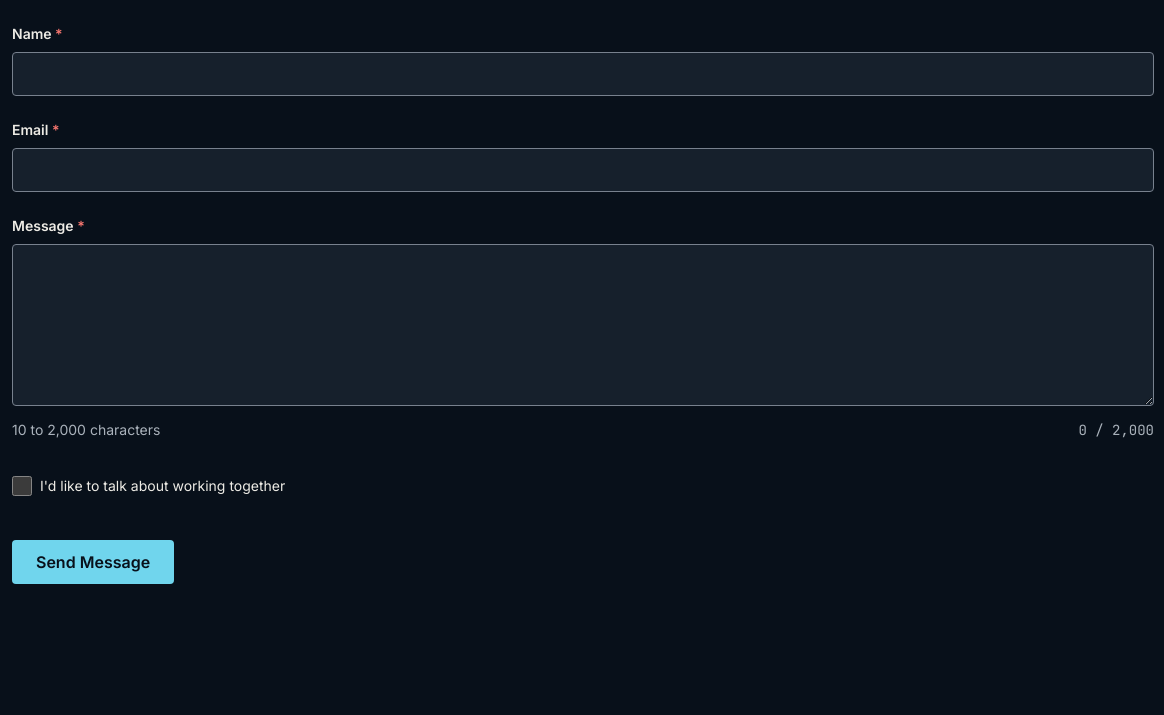
Test: SummitRegister › shows error message on submission failure and keeps every field
Type "John Doe" into the field labelled "Name *".
click(583, 74); type("John Doe")  # box [12,52,1154,96]
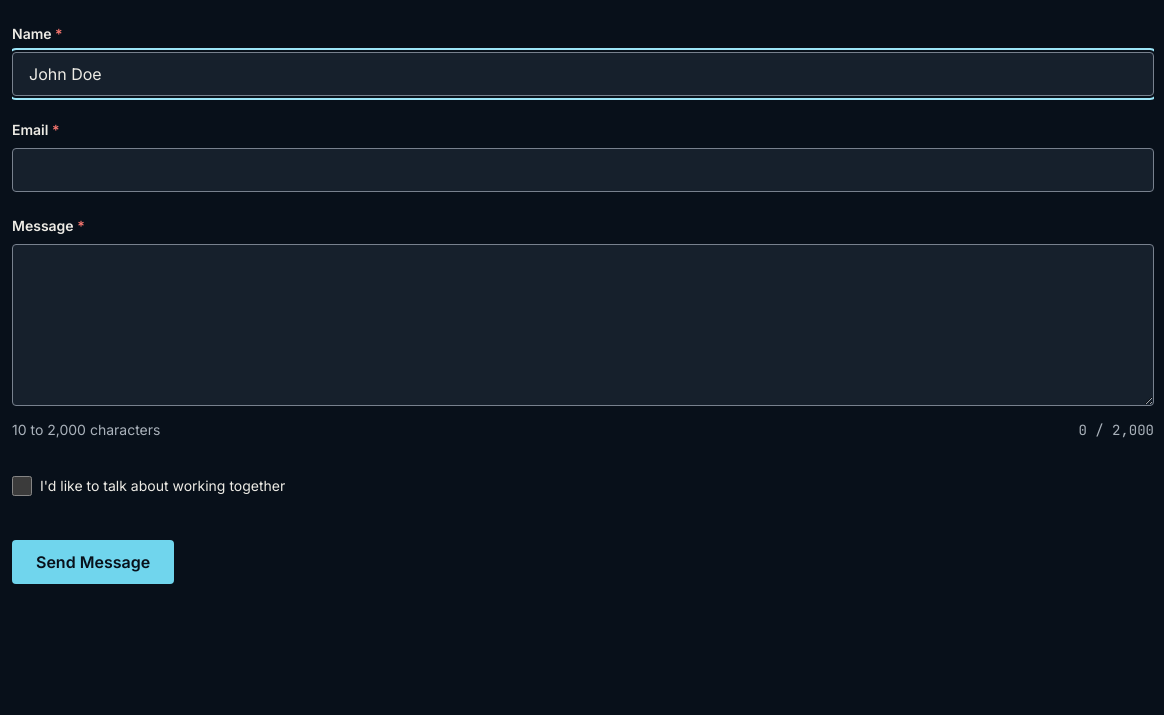
Type "john@example.com" into the field labelled "Email *".
click(583, 170); type("john@example.com")  # box [12,148,1154,192]
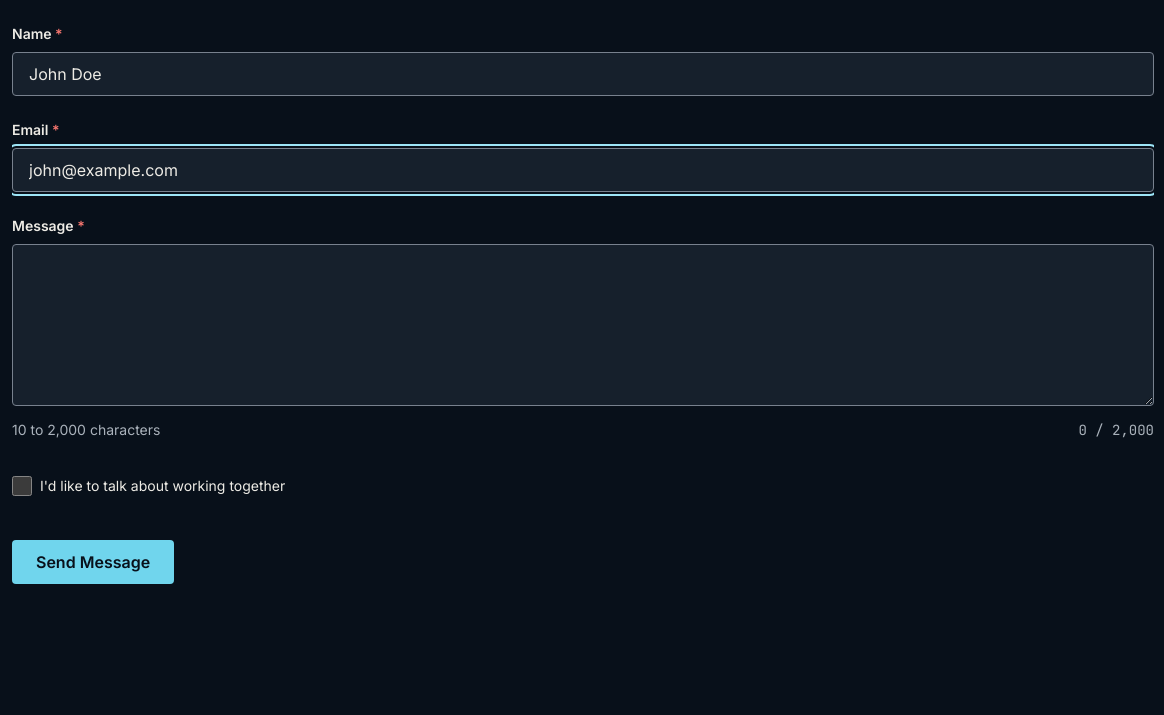
Type "This is a test message that is long enough." into the text box labelled "Message *".
click(583, 325); type("This is a test message that is long enough.")  # box [12,244,1154,406]
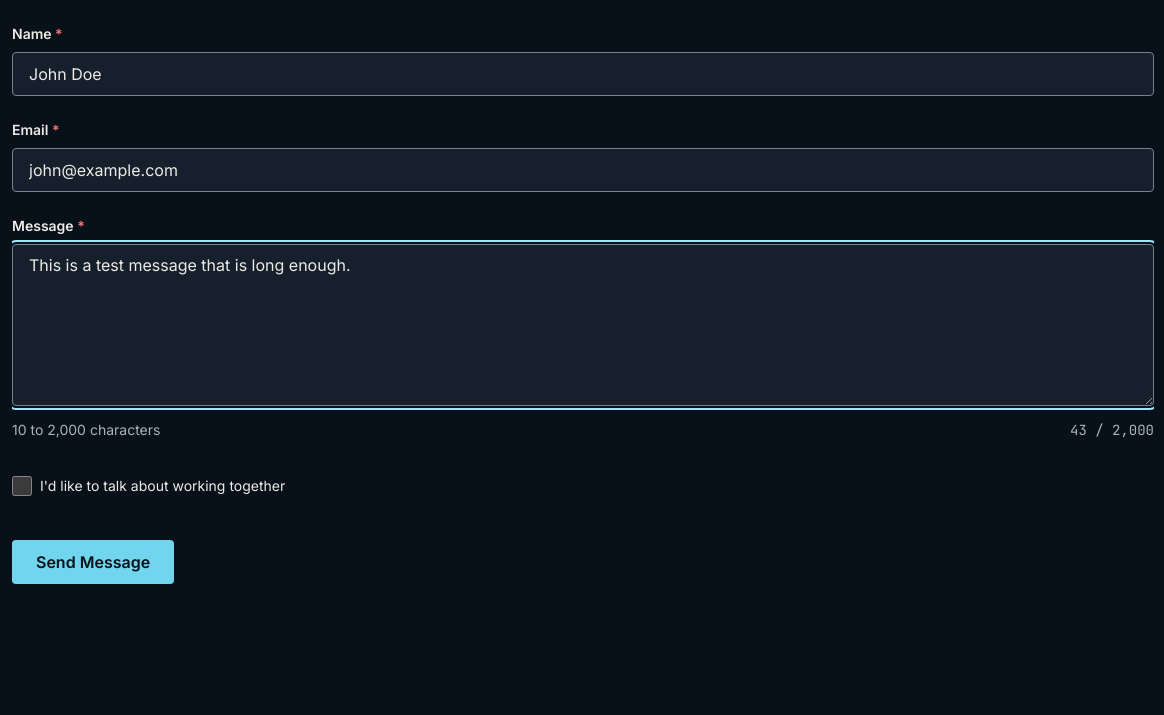
Click the button "Send Message".
click(93, 562)  # box [12,540,174,584]
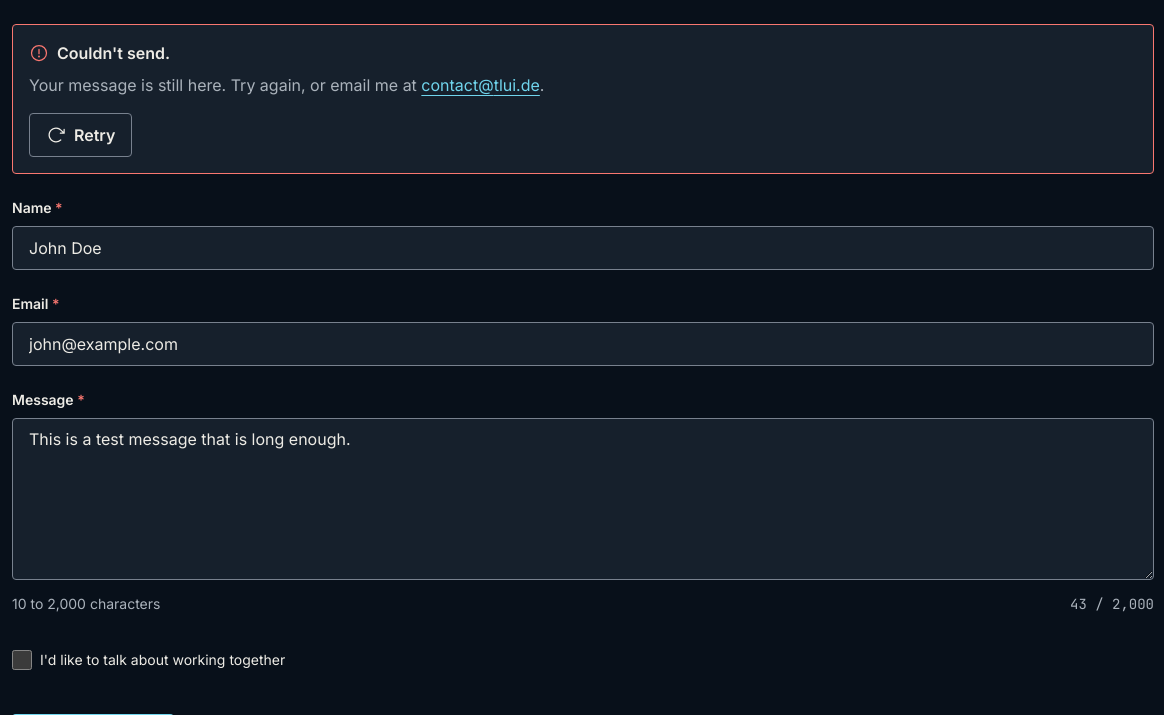
Expected: the message shows "Couldn't send.", [57,43,170,63]
Expected: the message shows "Your message is still here. Try again, or email me at", [29,75,421,95]
Expected: the button with aria-label "Retry sending" is shown, [29,113,132,157]
